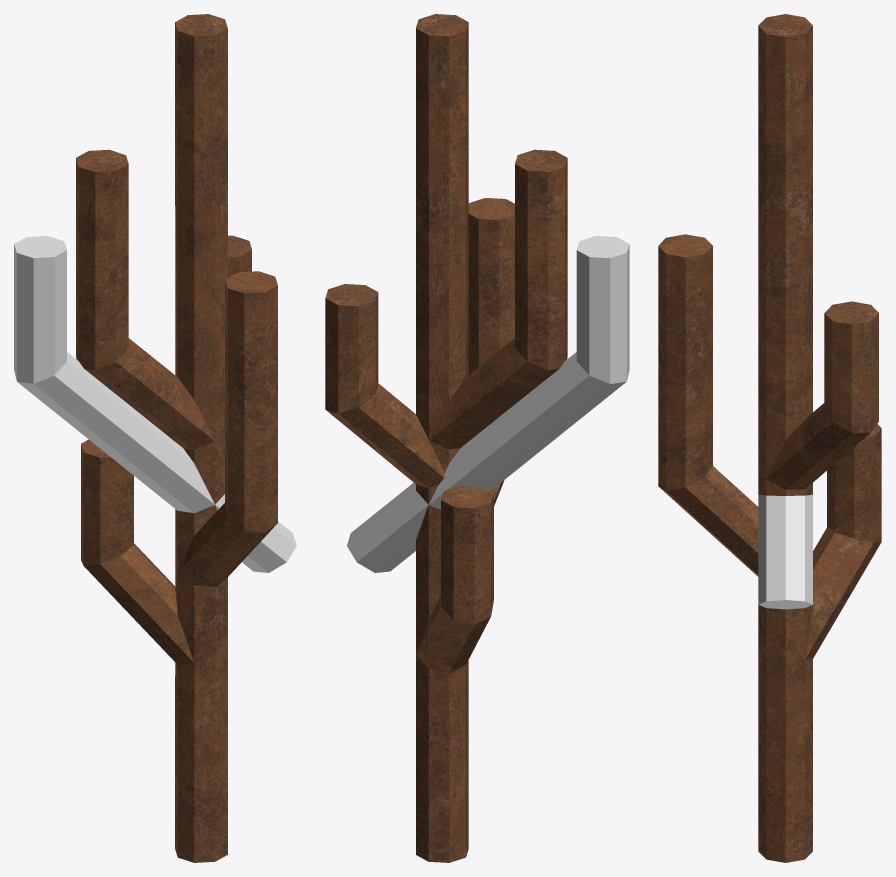
File: rusty_pole4.glb
3 renders of one model, left to right at view 1: azimuth 30°, elevation 25°; view 2: azimuth 150°, elevation 25°; view 3: azimuth 270°, elevation 25°, orthographic.
Visible parts, largest first — view 1: Arm Spare.001, Arm Spare; view 2: Arm Spare.001, Arm Spare; view 3: Arm Spare.001, Arm Spare.
Part boxes in pixels (bbox=[...]): Arm Spare.001: bbox=[76, 14, 277, 862]; Arm Spare: bbox=[14, 236, 296, 572]; Arm Spare.001: bbox=[325, 14, 567, 862]; Arm Spare: bbox=[347, 236, 629, 572]; Arm Spare.001: bbox=[658, 14, 881, 862]; Arm Spare: bbox=[758, 494, 812, 609].
Size of the model in its own units: 1.75 by 5 by 1.23.
Materials: 1 (1 with a texture image).
